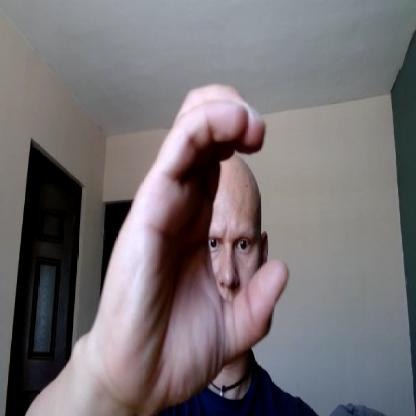C: (100, 82, 290, 415)
